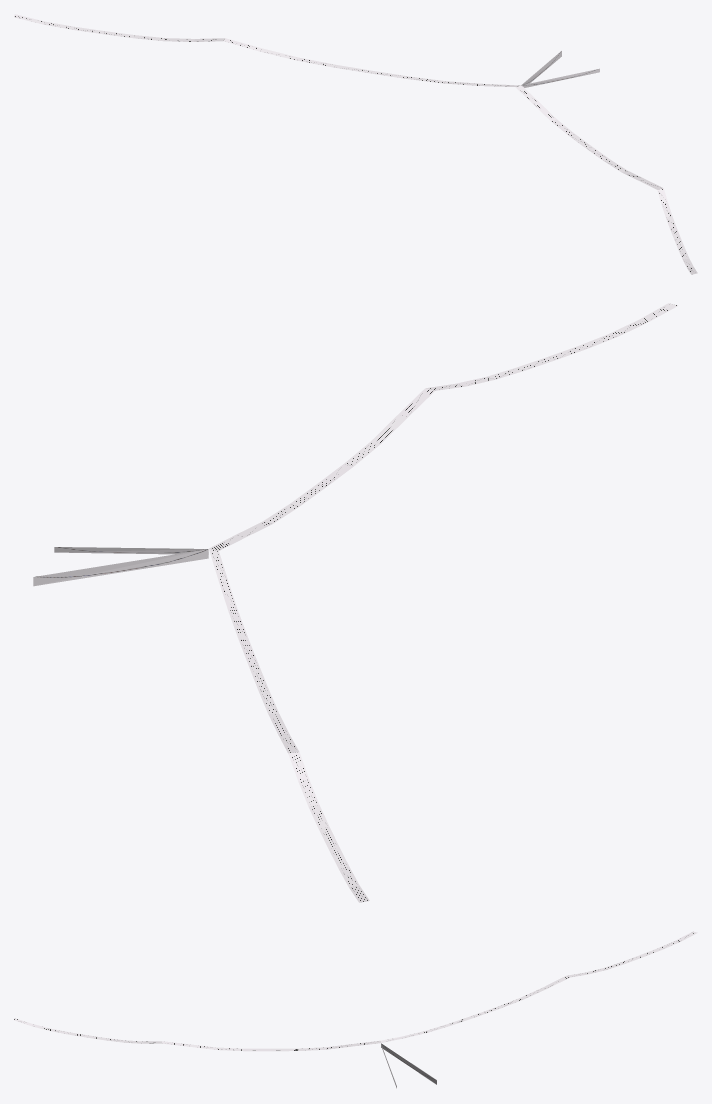
Rendered from wires_12_sfs.obj.
3 views of the same model, one above another, from view 1: azimuth 30°, elevation 25°; view 2: azimuth 150°, elevation 25°; view 3: azimuth 270°, elevation 25° (orthographic). The views are drawn at different scales.
Parts seen in each view (by area): view 1: wires_12_SFS; view 2: wires_12_SFS; view 3: wires_12_SFS.
Boxes of the visible parts, bbox=[...] form: wires_12_SFS: bbox=[14, 14, 697, 274]; wires_12_SFS: bbox=[33, 303, 678, 902]; wires_12_SFS: bbox=[14, 931, 697, 1088].
Bounding box in the file's own units: 102 × 4.05 × 197.
Materials: 2 (2 with a texture image).
